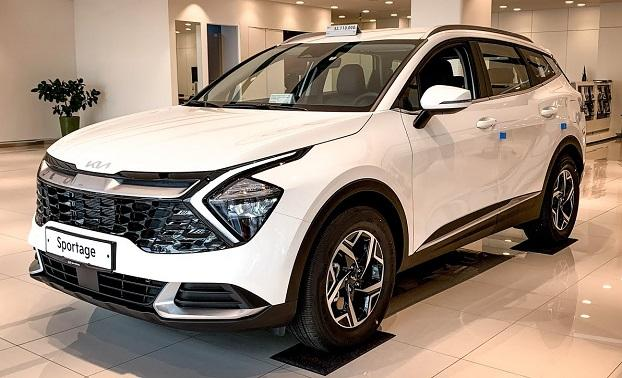windshield: (182, 32, 435, 119)
